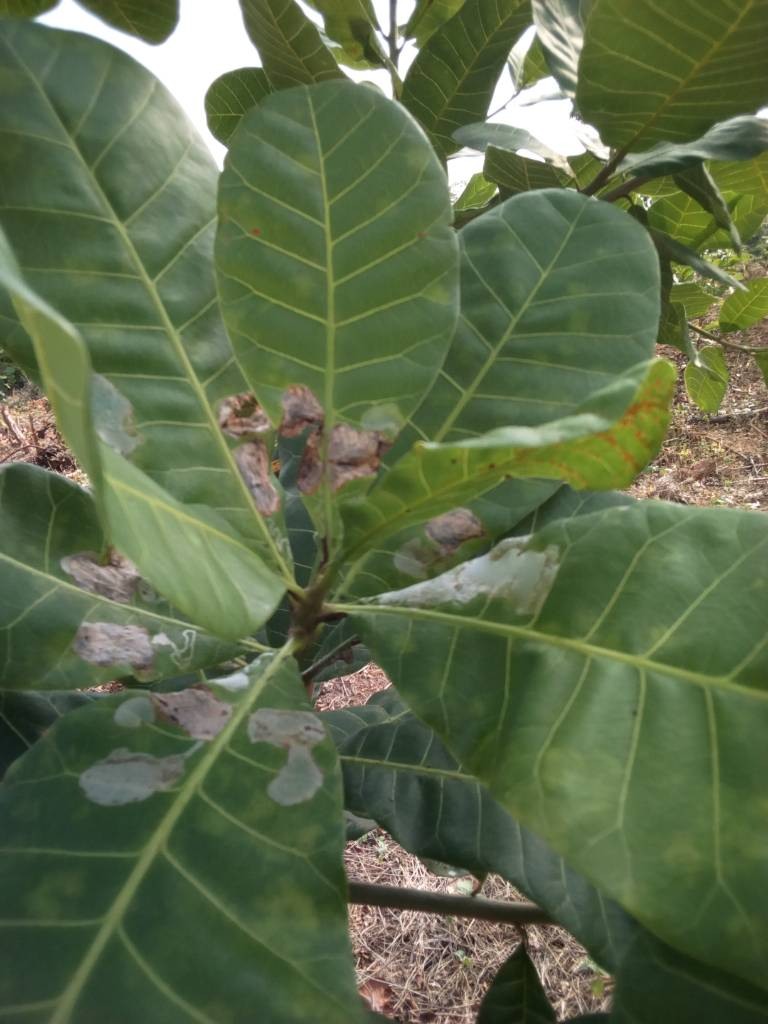Virose: (4, 669, 325, 1003), (36, 532, 204, 699)
